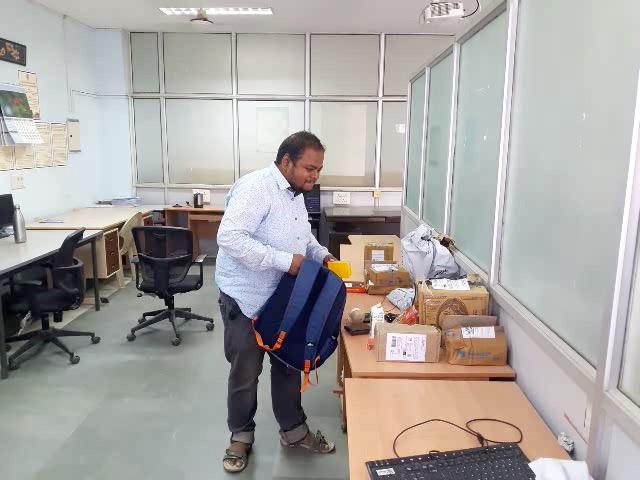shoplifting: (214, 206, 398, 400)
